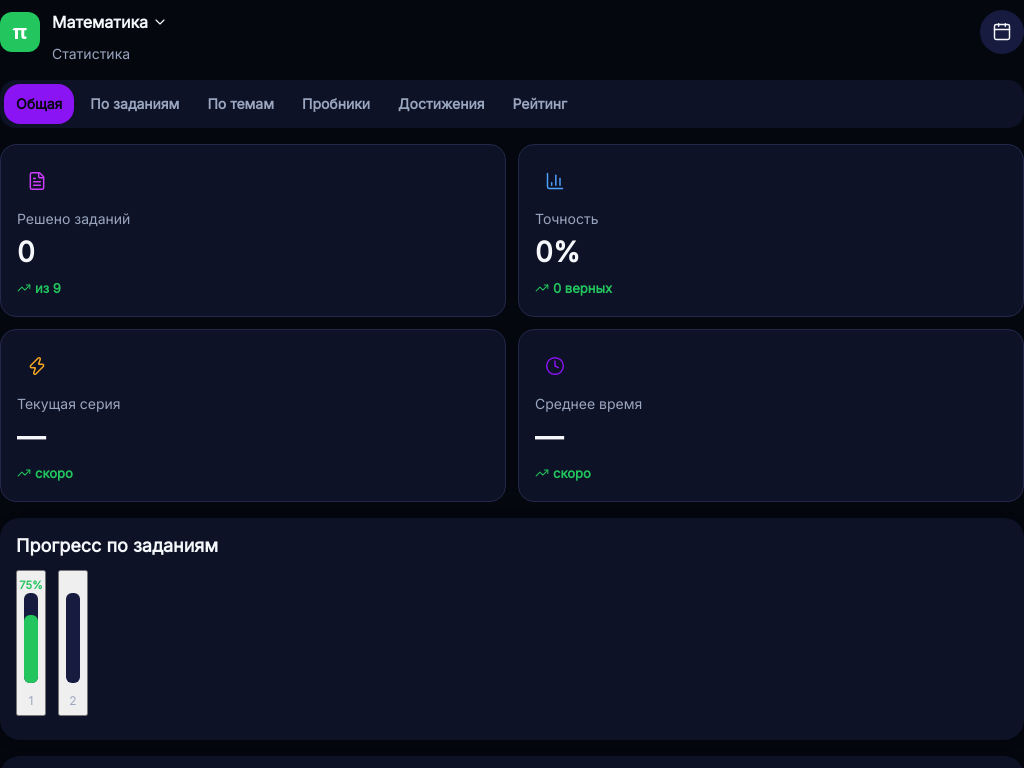
Test: StatisticsMobile — real progress data › shows real per-task-number completion once the API responds, including untried numbers
What coordinates should you click on to do the following:
click the tab "По заданиям"
I would click on:
 (135, 104)
Its box is [78, 84, 191, 124].
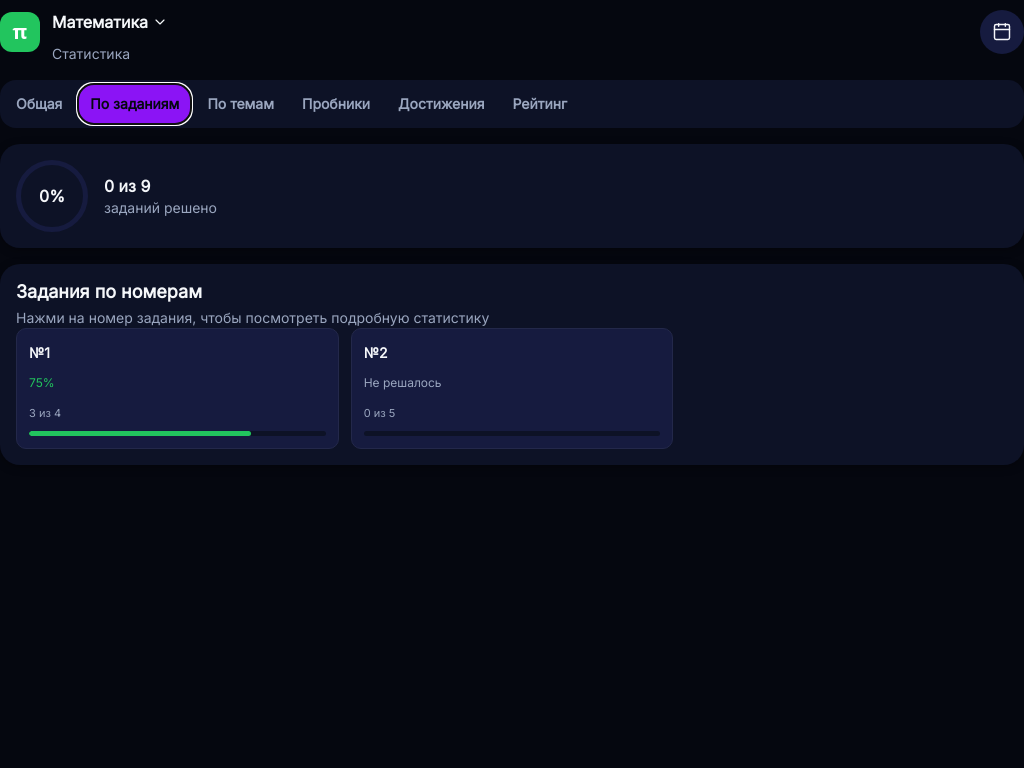
Expected: the text "75%" is shown, [29, 371, 55, 395]
Result: the text "Не решалось" is shown at [364, 371, 442, 395]
